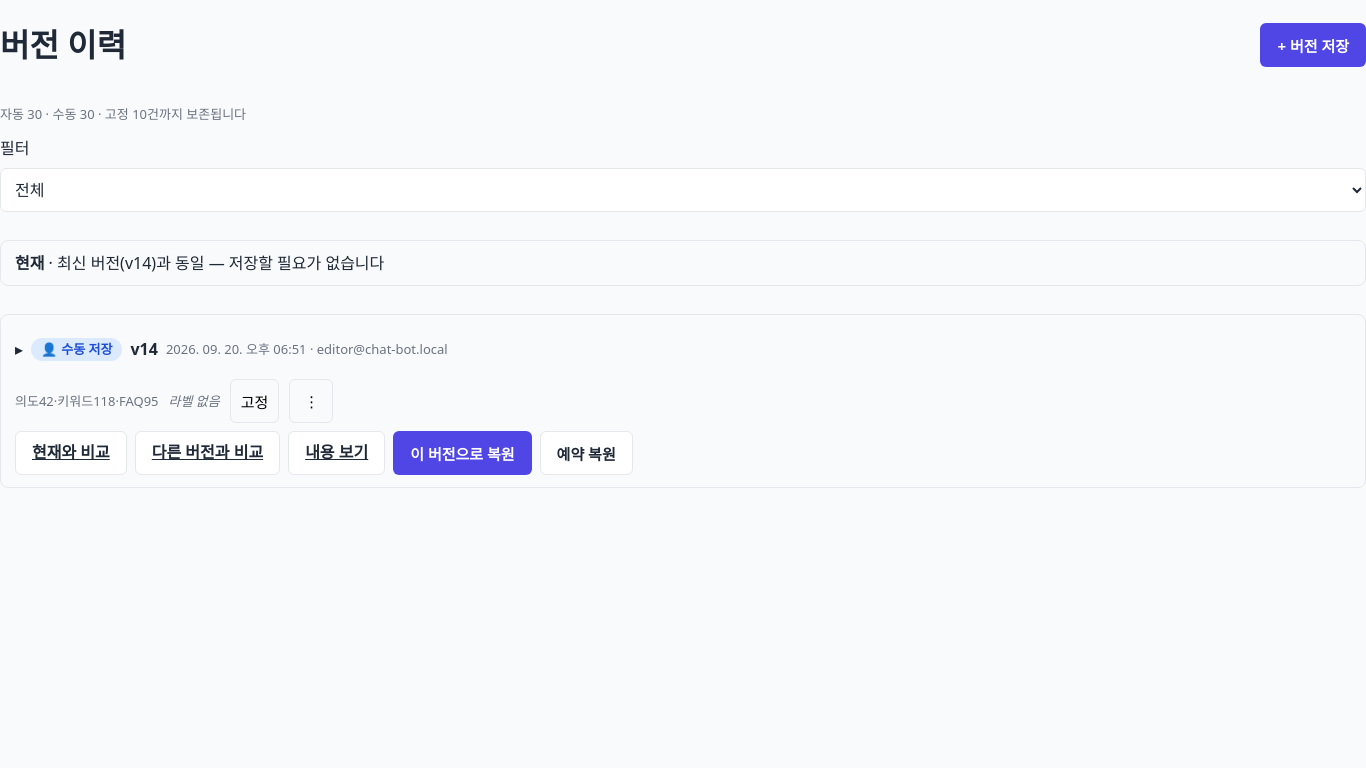
Test: VersionListPage › 수동 저장 시 unchanged 응답이면 모달이 닫히지 않고 "새로 저장하지 않았습니다" 안내로 전환된다(AC-H1-2)
Expected: the text "v14" is shown, [130, 337, 158, 361]
What coordinates should you click on to do the following:
click the button "+ 버전 저장"
I would click on:
 (1313, 45)
Its box is [1260, 23, 1365, 67].
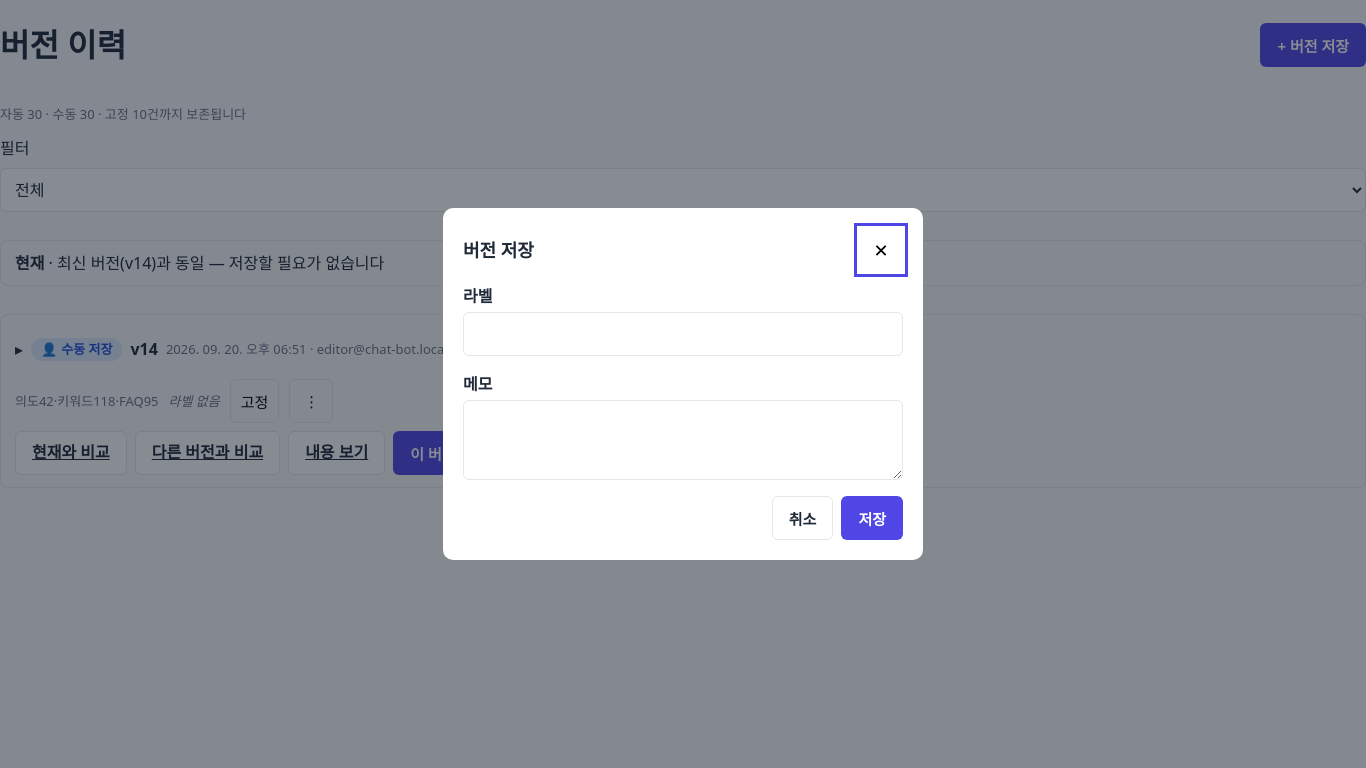
What coordinates should you click on to do the following:
click the button "저장"
I would click on:
 (872, 518)
Its box is [841, 496, 903, 540].
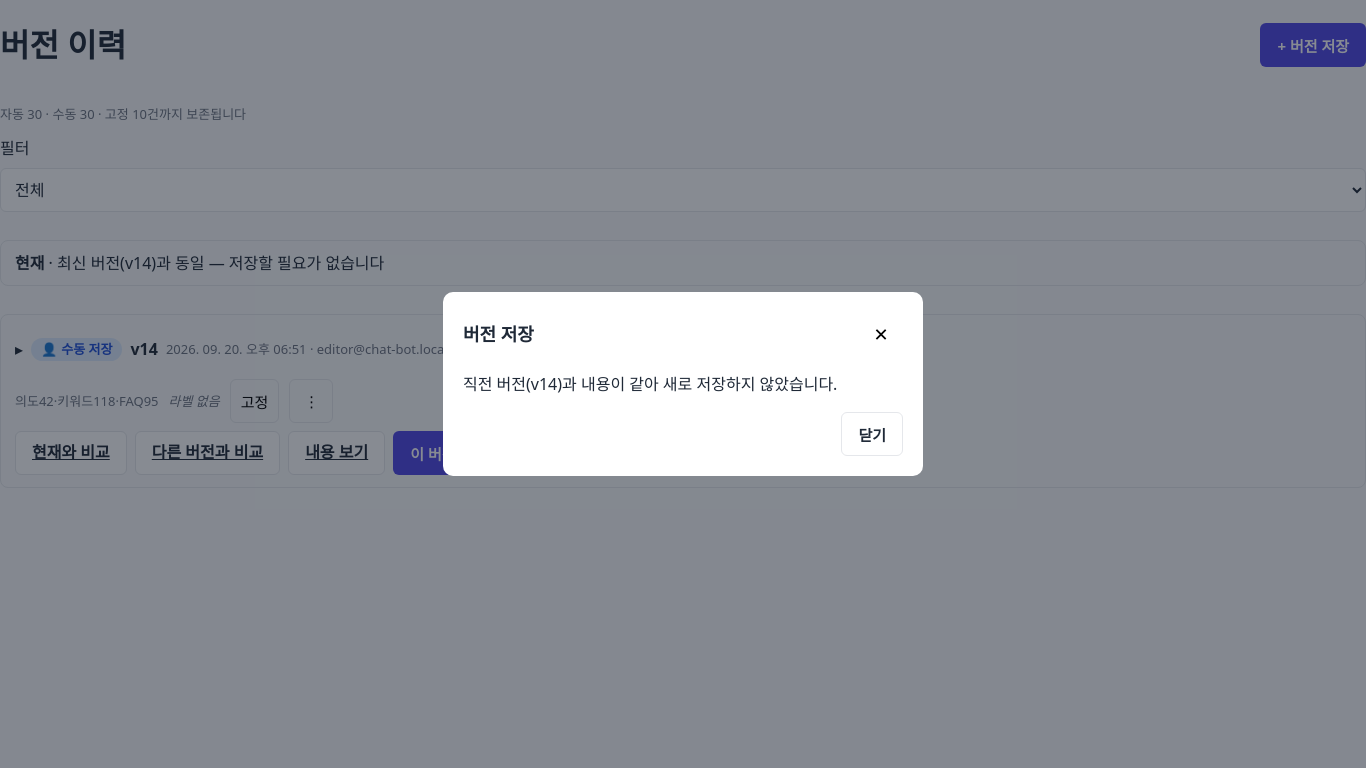
Expected: the heading "버전 저장" is shown, [463, 320, 534, 348]
Expected: the text "직전 버전(v14)과 내용이 같아 새로 저장하지 않았습니다." is shown, [463, 372, 903, 396]
